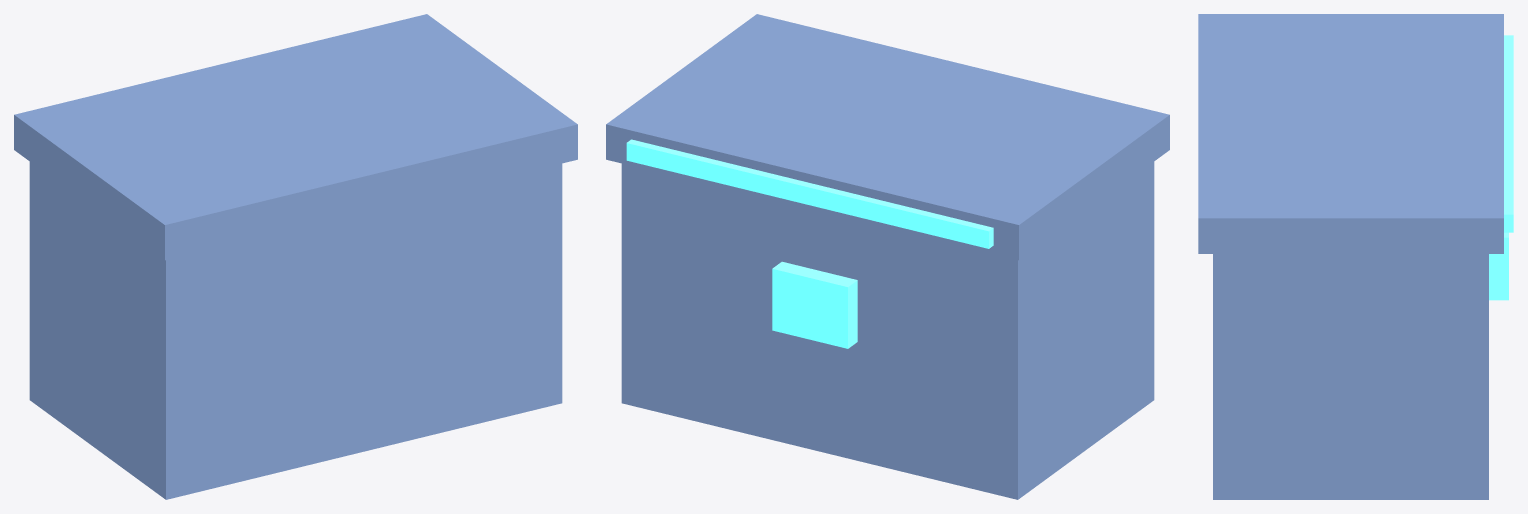
The model's file is storage-box.glb.
3 renders of one model, left to right at view 1: azimuth 30°, elevation 25°; view 2: azimuth 150°, elevation 25°; view 3: azimuth 270°, elevation 25°, orthographic.
Parts seen in each view (by area): view 1: Body, Lid; view 2: Body, Lid, Trim, Indicator; view 3: Lid, Body, Trim, Indicator.
Part boxes in pixels (x1,y1,x2,y2): Body: [29, 162, 562, 499]; Lid: [14, 14, 577, 260]; Body: [621, 162, 1154, 499]; Lid: [606, 14, 1169, 260]; Trim: [626, 139, 993, 248]; Indicator: [772, 261, 857, 348]; Lid: [1198, 14, 1503, 253]; Body: [1213, 254, 1488, 499]; Trim: [1504, 35, 1513, 232]; Indicator: [1489, 232, 1508, 300].
Size of the model in its own units: 0.98 by 0.64 by 0.64.
